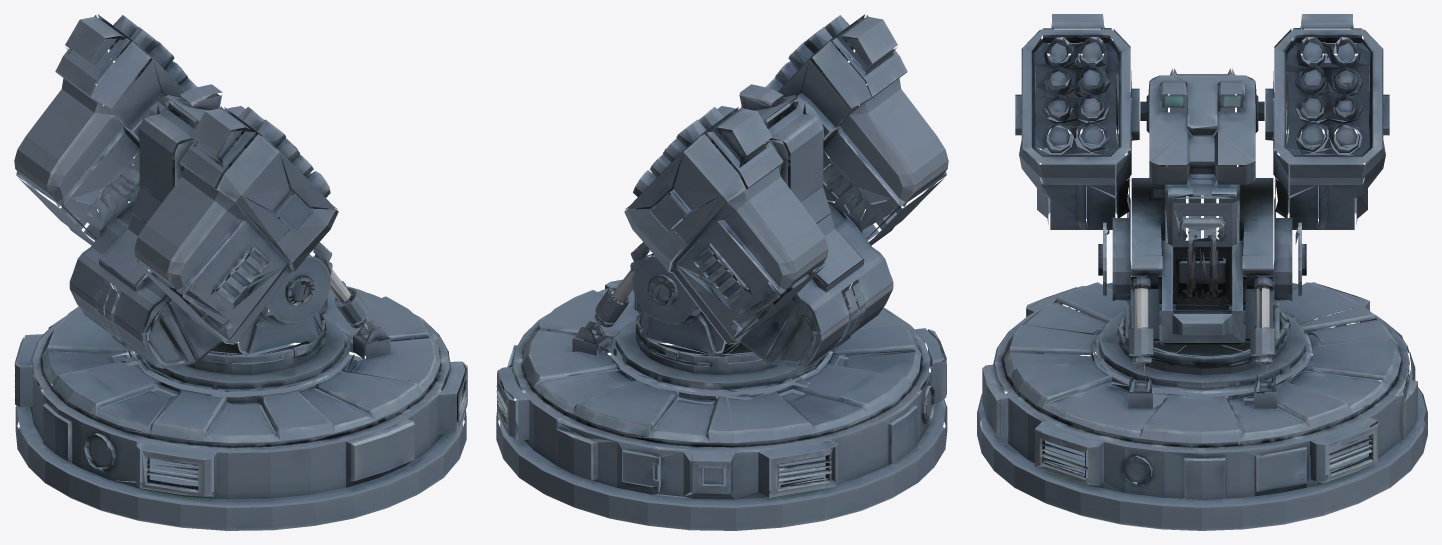
The model's file is defense_turret_LOD1.glb.
3 views of the same model, side by side, from view 1: azimuth 30°, elevation 25°; view 2: azimuth 150°, elevation 25°; view 3: azimuth 270°, elevation 25° (orthographic).
Visible parts, largest first — view 1: defense_turret_LOD1; view 2: defense_turret_LOD1; view 3: defense_turret_LOD1.
Part boxes in pixels (box(x1,y1,x2,y2)): defense_turret_LOD1: box(14, 14, 467, 530); defense_turret_LOD1: box(496, 14, 948, 530); defense_turret_LOD1: box(977, 14, 1427, 530).
Size of the model in its own units: 0.9881 by 0.9216 by 0.9881.
1 material, 1 textured.
